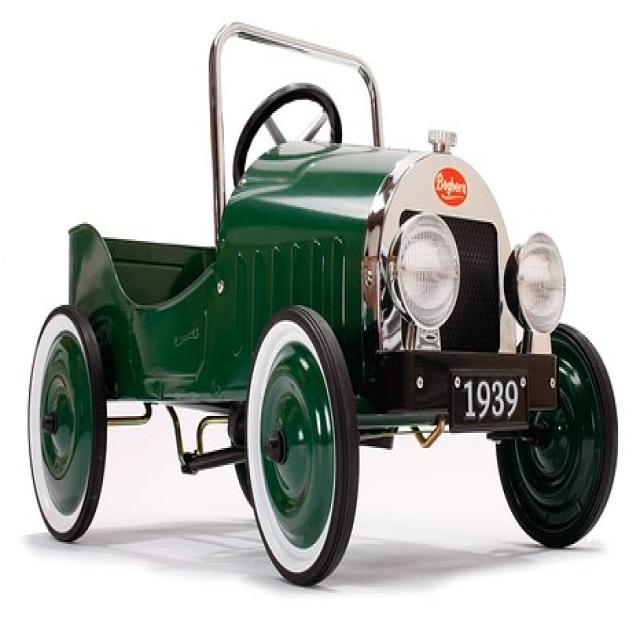Car: (26, 19, 618, 587)
